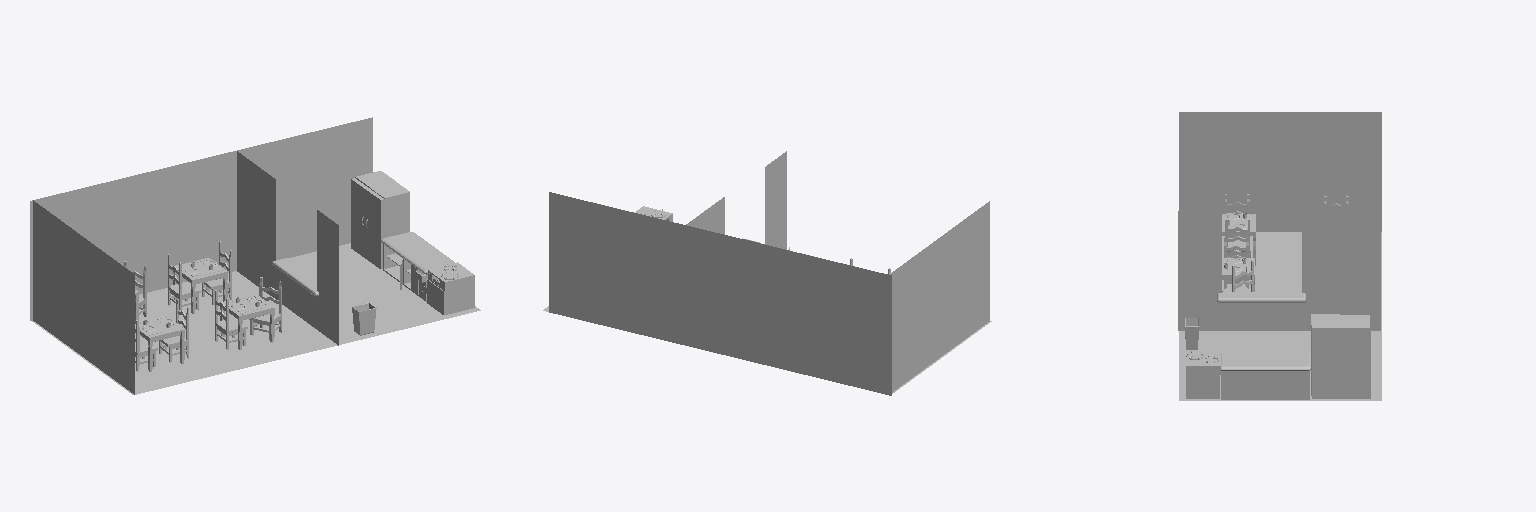
File: environment_v04.obj
The picture shows the model from 3 angles: view 1: azimuth 30°, elevation 25°; view 2: azimuth 150°, elevation 25°; view 3: azimuth 270°, elevation 25°; orthographic projection.
Bounding box in the file's own units: 513 × 170 × 260.